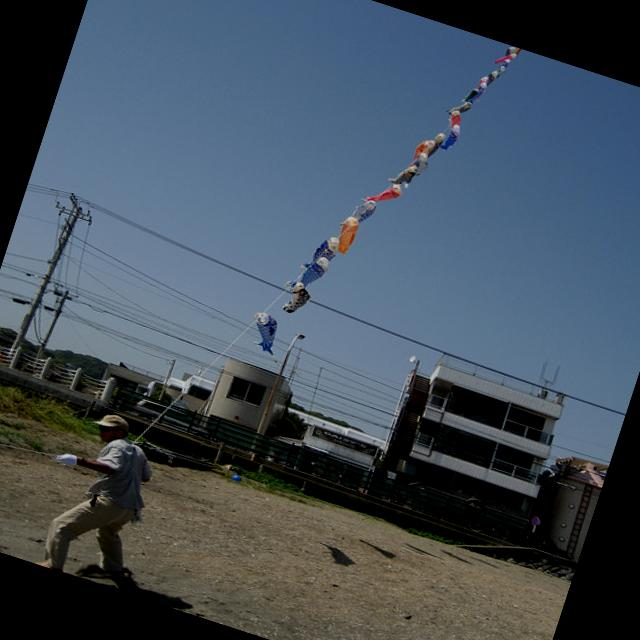Vehicle: (133, 398, 214, 438)
